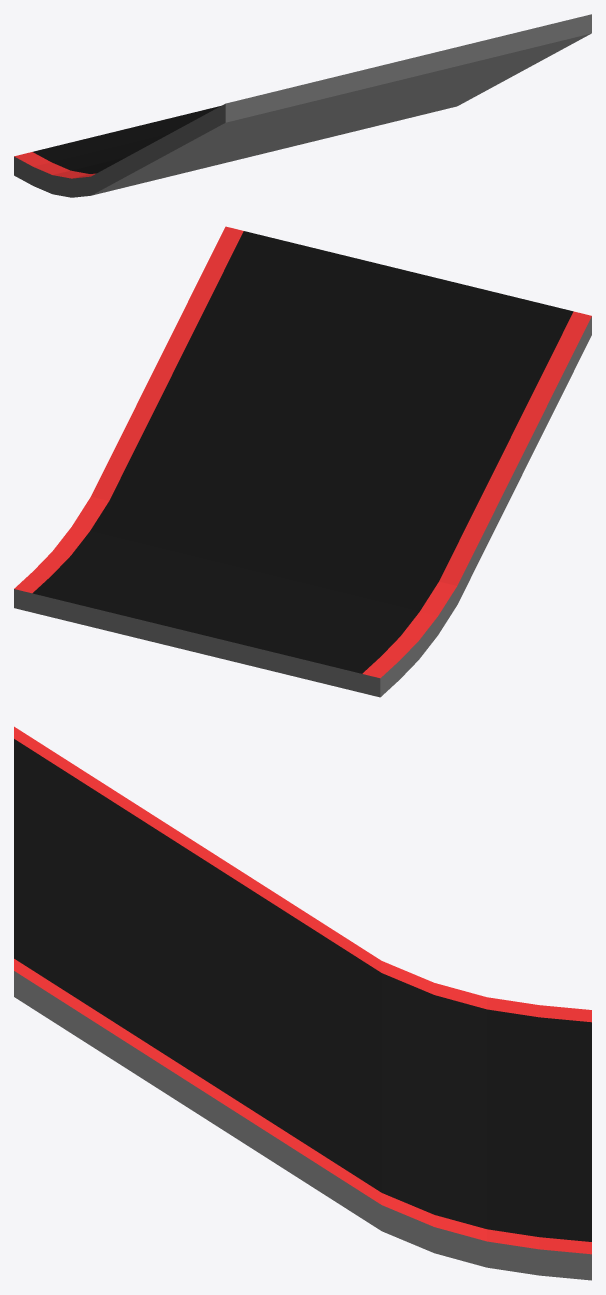
The model's file is Streckenmodul_-_Rampe_Steil_Unten.fbx.
3 views of the same model, one above another, from view 1: azimuth 30°, elevation 25°; view 2: azimuth 150°, elevation 25°; view 3: azimuth 270°, elevation 25° (orthographic). The views are drawn at different scales.
Visible parts, largest first — view 1: Streckenmodul - Rampe_Steil_Unten; view 2: Streckenmodul - Rampe_Steil_Unten; view 3: Streckenmodul - Rampe_Steil_Unten.
Part boxes in pixels (x1,y1,x2,y2): Streckenmodul - Rampe_Steil_Unten: (14, 14, 591, 197); Streckenmodul - Rampe_Steil_Unten: (14, 226, 591, 697); Streckenmodul - Rampe_Steil_Unten: (14, 726, 591, 1280).
Size of the model in its own units: 394 by 233 by 394.
